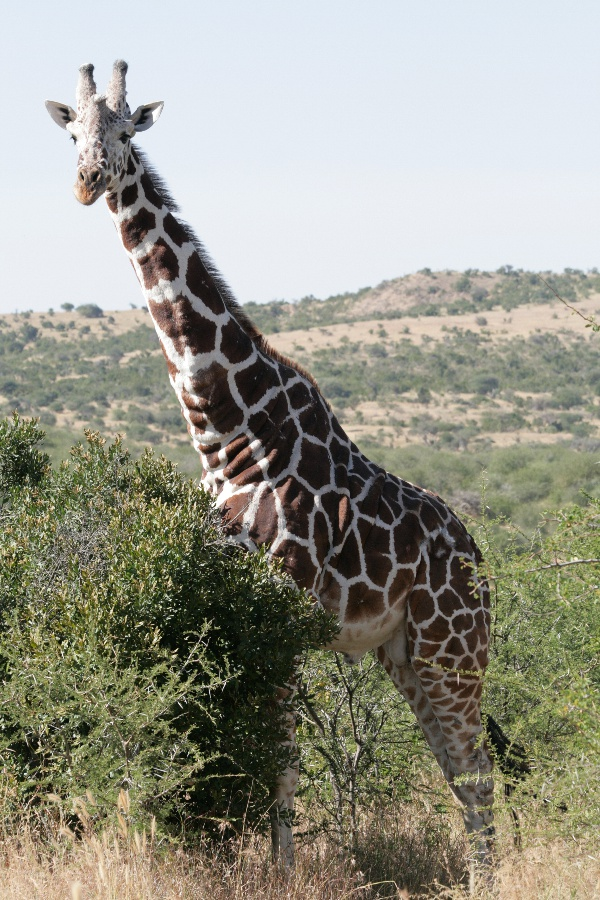giraffe: (31, 43, 539, 891)
